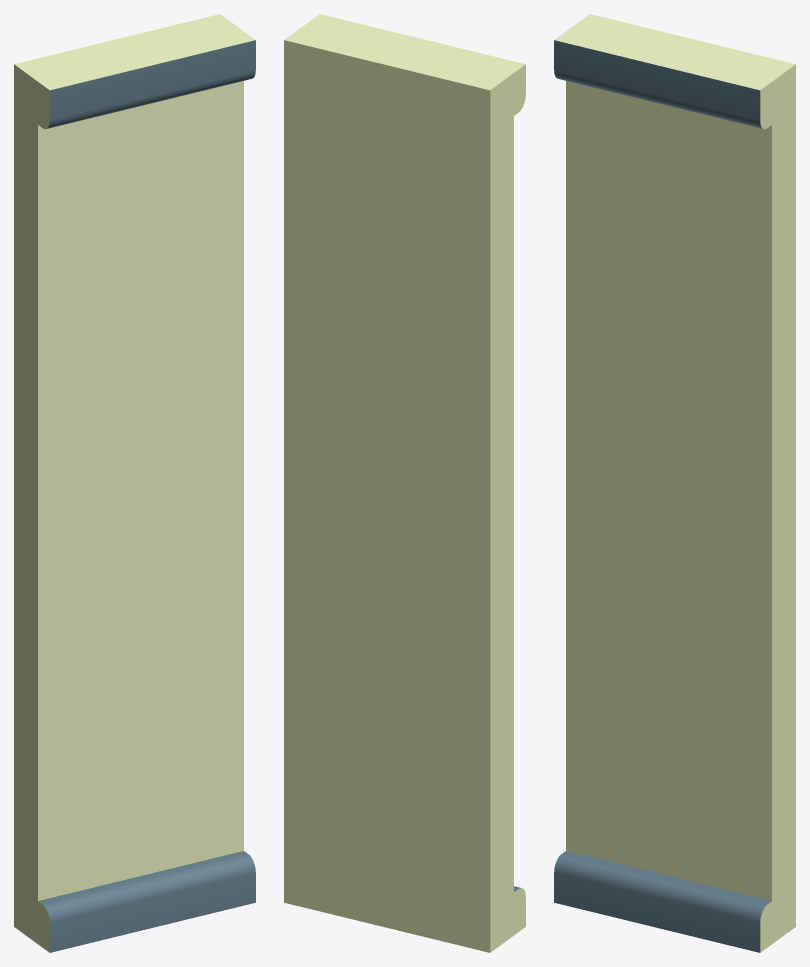
File: Modular_01_Wall_50cm.fbx
The picture shows the model from 3 angles, left to right: view 1: azimuth 30°, elevation 25°; view 2: azimuth 150°, elevation 25°; view 3: azimuth 330°, elevation 25°; orthographic projection.
Parts seen in each view (by area): view 1: Modular_01_Wall_50cm; view 2: Modular_01_Wall_50cm; view 3: Modular_01_Wall_50cm.
Part boxes in pixels (box(x1,y1,x2,y2)): Modular_01_Wall_50cm: box(14, 14, 255, 952); Modular_01_Wall_50cm: box(284, 14, 525, 952); Modular_01_Wall_50cm: box(554, 14, 795, 952).
Bounding box in the file's own units: 50 × 200 × 15.
